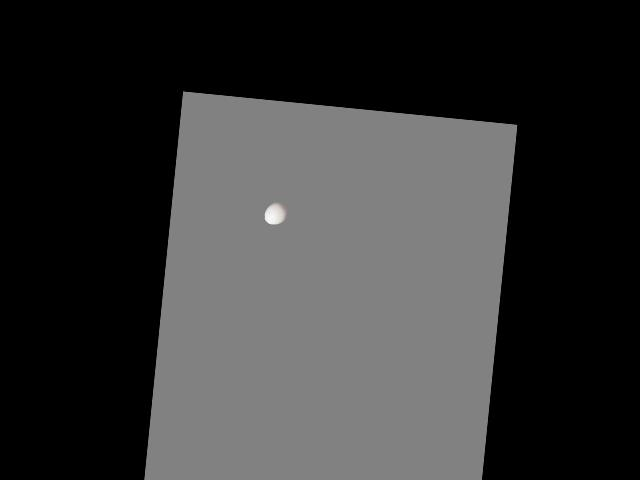egg: (264, 200, 288, 225)
